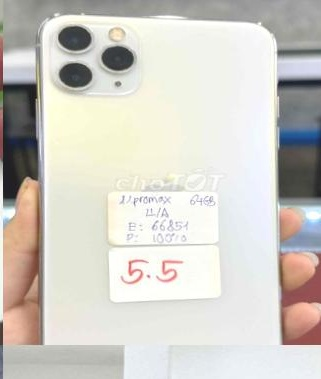scratch: (52, 19, 138, 92)
